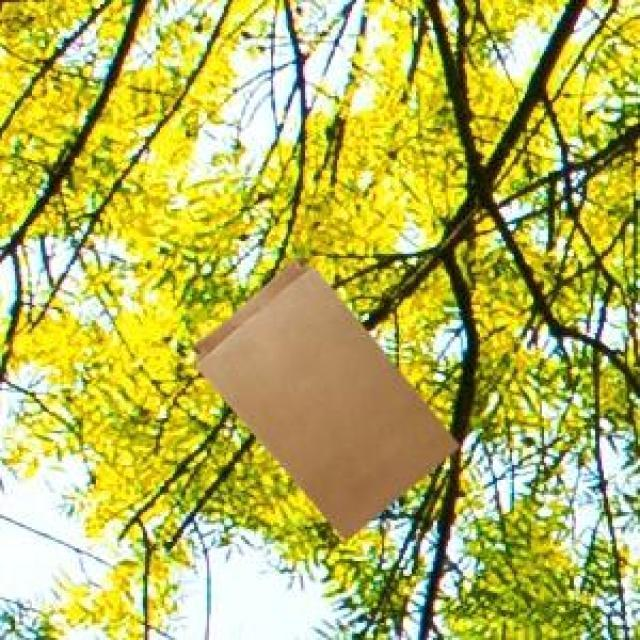paper: (188, 254, 454, 536)
